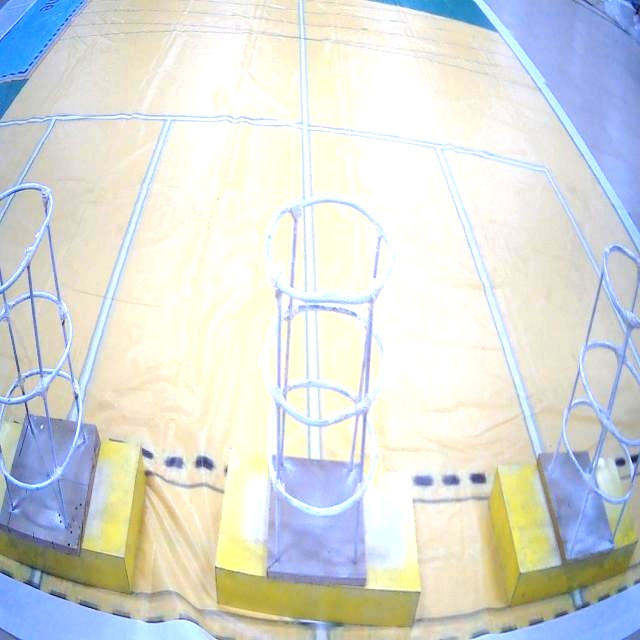silo: (266, 196, 396, 590), (0, 172, 89, 550), (554, 242, 638, 553)
